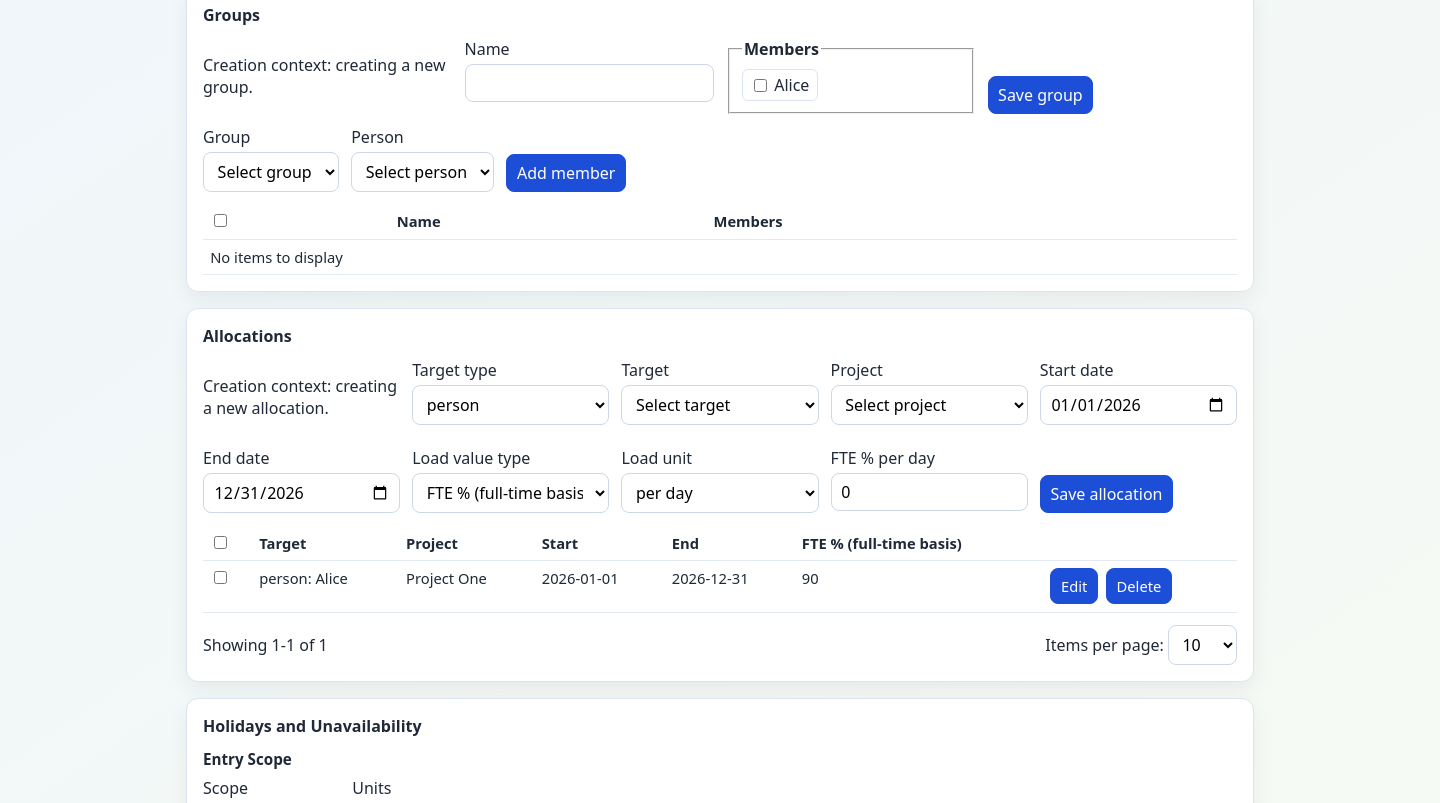
Test: App focused behaviors › highlights over-allocated persons after user confirms save
The image size is (1440, 803).
(page scrolled)
Expected: the element "Allocations" is shown, [186,308,1254,682]
Select "Alice" in the dropdown labelled "Target". click: (720,405)
box: [621,385,819,425]
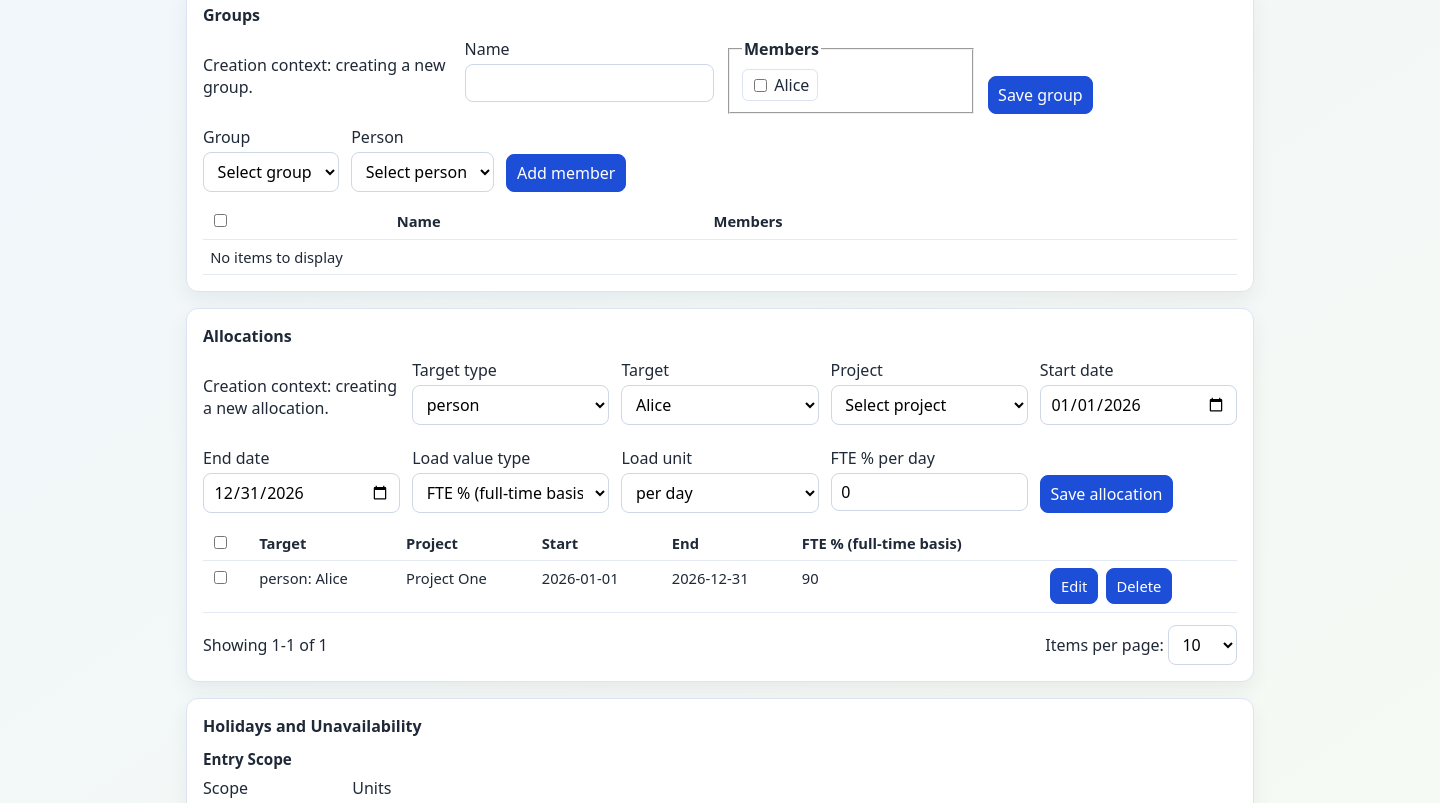
Select "Project Two" in the dropdown labelled "Project". click: (929,405)
box: [831,385,1028,425]
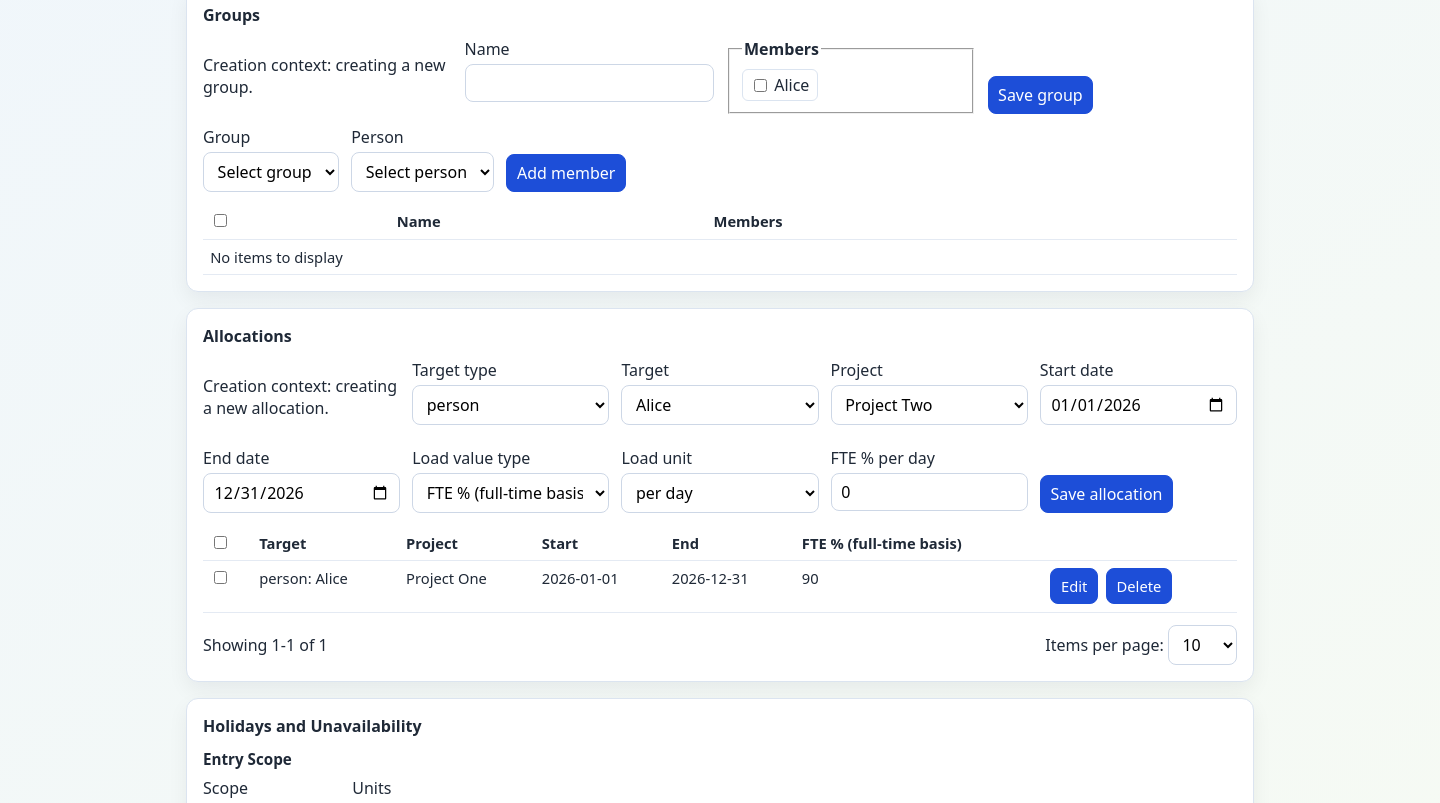
Replace the text in the number field labelled "FTE % per day" with "20". click: (929,492)
box: [831,473,1028,511]
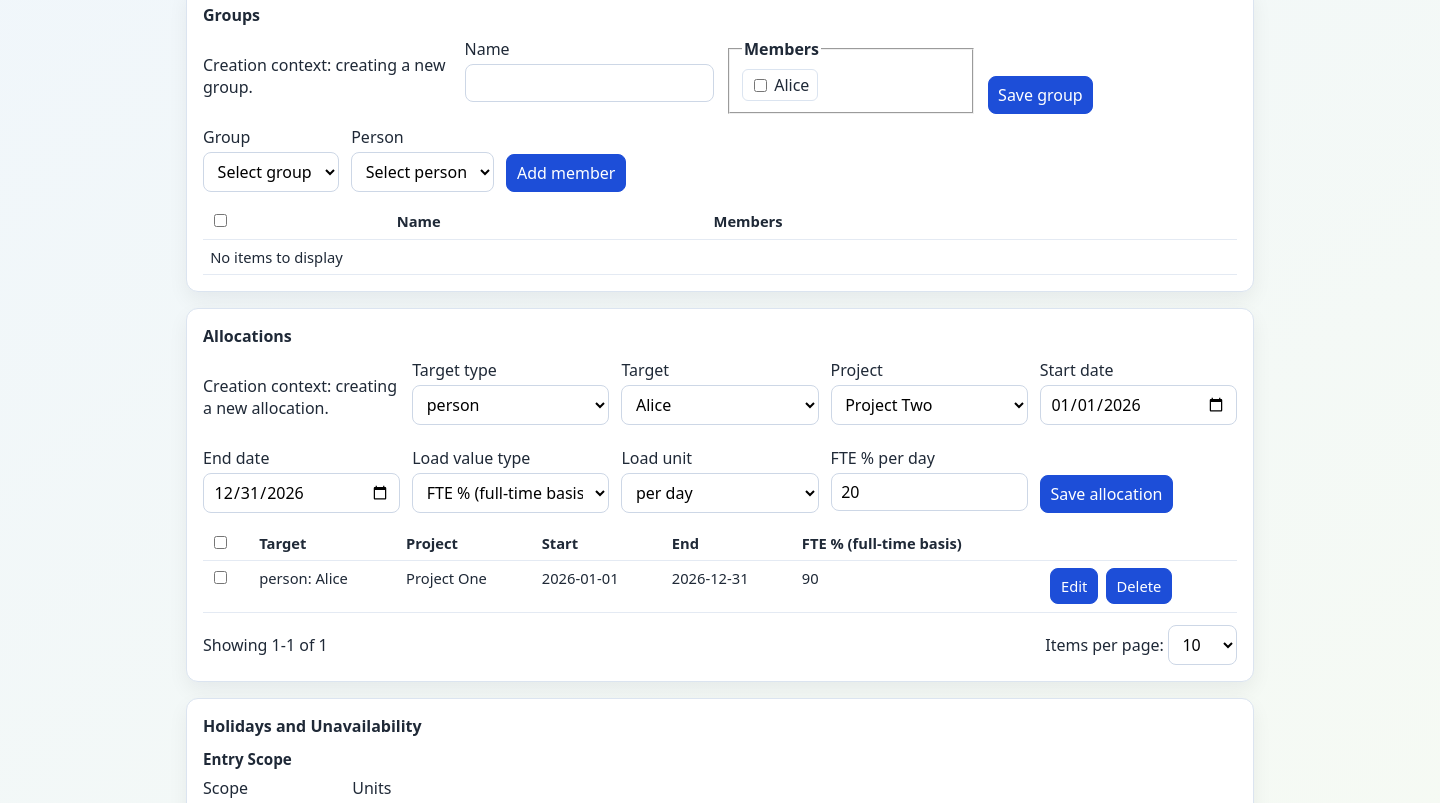
Click the button "Save allocation". click: (1106,494)
box: [1040,475,1173,513]
(page scrolled)
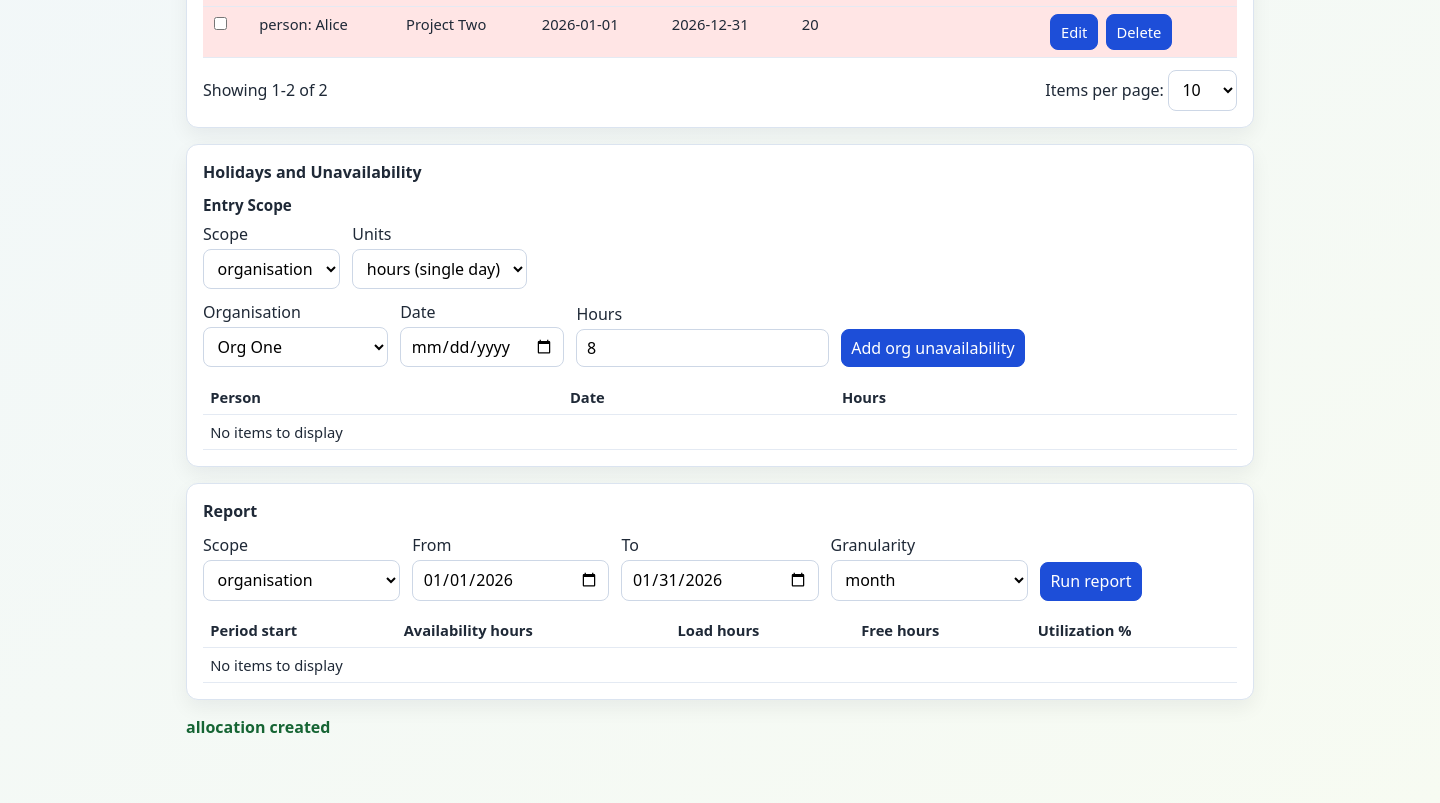
Expected: the element "Report" is shown, [186,483,1254,700]
Select "person" in the dropdown labelled "Scope" below "From". click: (302,580)
box: [203,560,400,600]
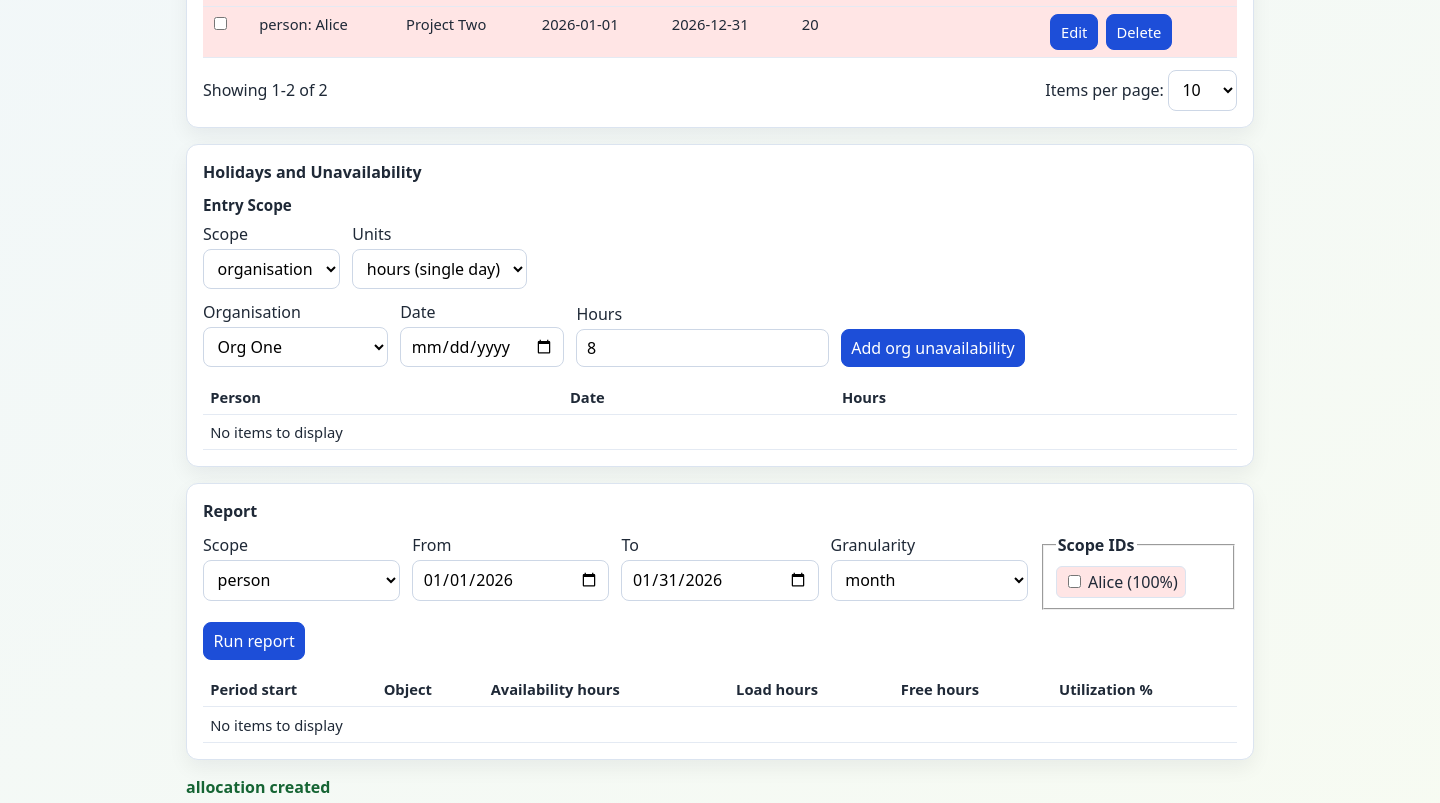
Click the button "Run report". click: (254,641)
box: [203,622,305,660]
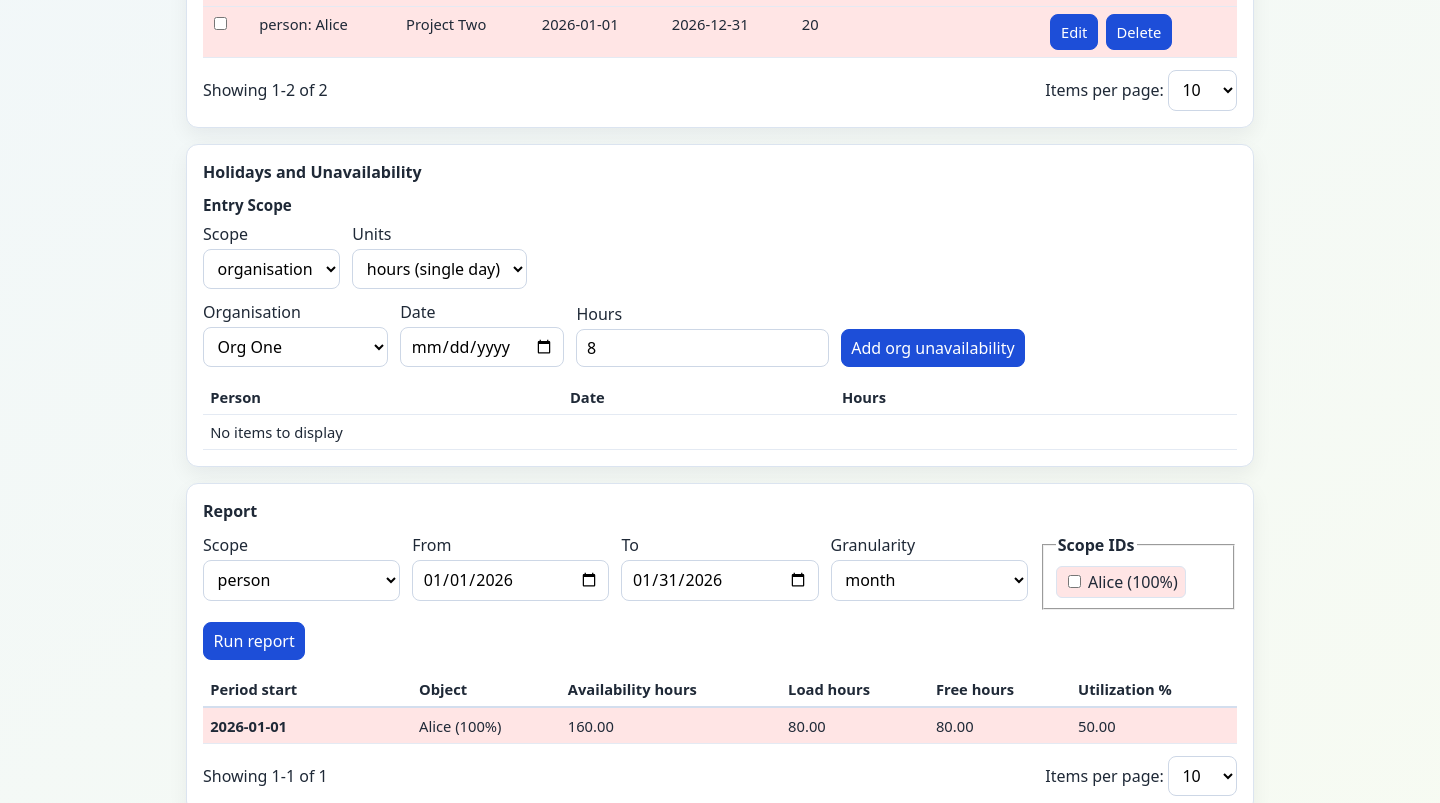
Result: the label "Alice (100%)" is shown at [1056,566,1186,598]
Result: the row "Alice (100%)" is shown at [203,708,1237,743]
Result: the cell "50.00" is shown at [1071,708,1237,743]
